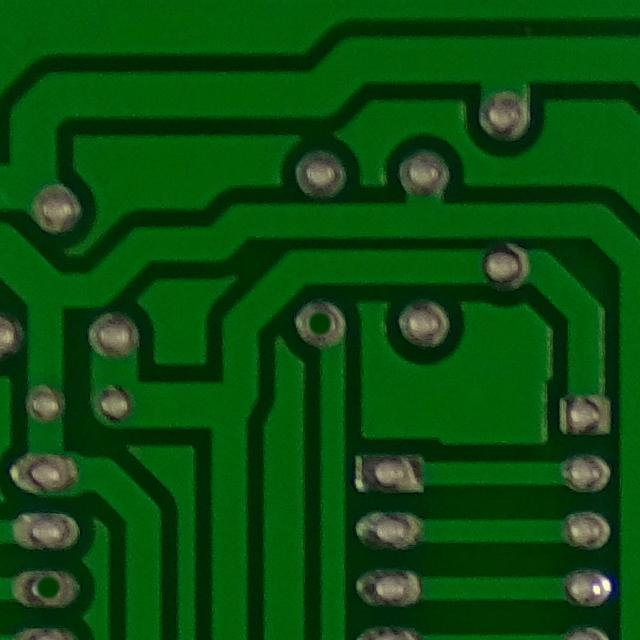missing_hole: (285, 289, 355, 352)
